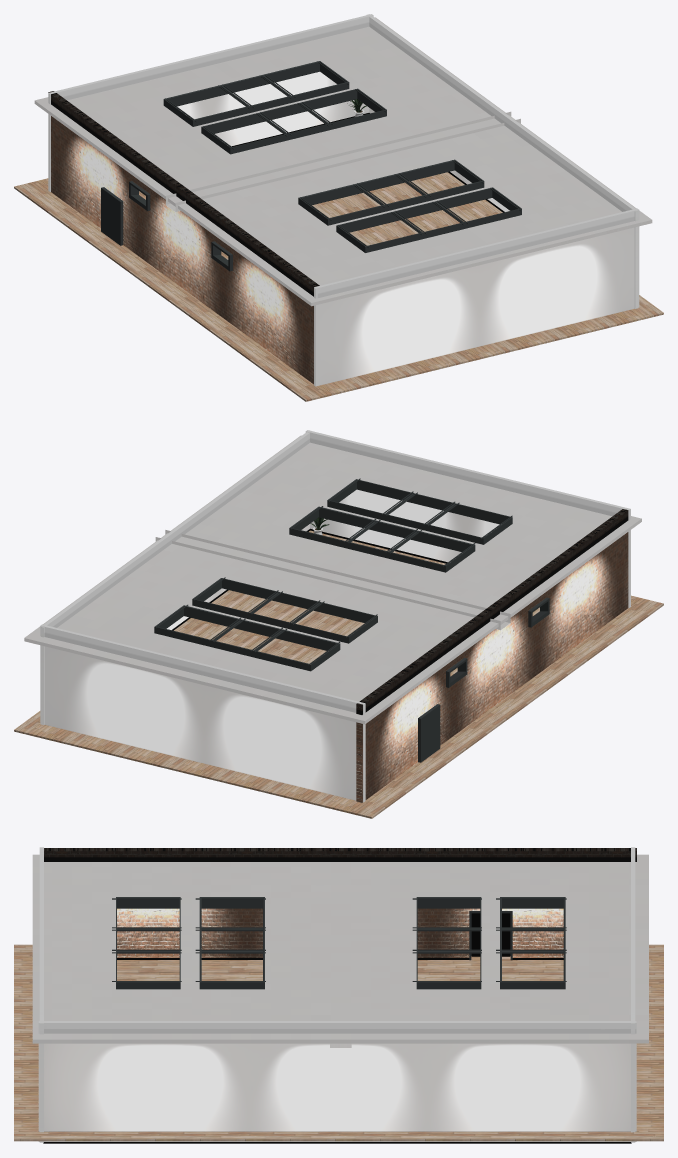
Rendered from artgallery_6.glb.
3 renders of one model, top to bottom at view 1: azimuth 30°, elevation 25°; view 2: azimuth 150°, elevation 25°; view 3: azimuth 270°, elevation 25°, orthographic. The views are drawn at different scales.
Visible parts, largest first — view 1: Plane, Plane.001, Plane.003, Plane.012, Cube.018, Cube.028, Cube.029, Door trim; view 2: Plane, Plane.001, Plane.003, Plane.012, Cube.018, Cube.028, Cube.029, Door trim; view 3: Plane, Plane.001, Plane.012, Plane.003, Cube.028, Cube.018, Wall trim, Cube.
Part boxes in pixels (x1,y1,x2,y2): Plane: (34,17,652,306); Plane.001: (48,14,639,386); Plane.003: (48,91,319,384); Plane.012: (14,172,663,401); Cube.018: (298,159,521,252); Cube.028: (163,61,386,154); Cube.029: (166,111,520,211); Door trim: (101,187,123,245); Plane: (24,435,641,724); Plane.001: (40,430,630,802); Plane.003: (356,509,628,802); Plane.012: (14,530,663,818); Cube.018: (289,478,512,572); Cube.028: (154,577,377,671); Cube.029: (155,530,510,629); Door trim: (418,704,440,762); Plane: (32,854,648,1043); Plane.001: (38,847,636,1142); Plane.012: (14,944,663,1141); Plane.003: (44,848,636,957); Cube.028: (412,897,566,989); Cube.018: (112,897,265,989); Wall trim: (43,958,631,1143); Cube: (471,913,510,956).
Size of the model in its own units: 22.12 by 6.49 by 31.22.
16 materials, 6 textured.
